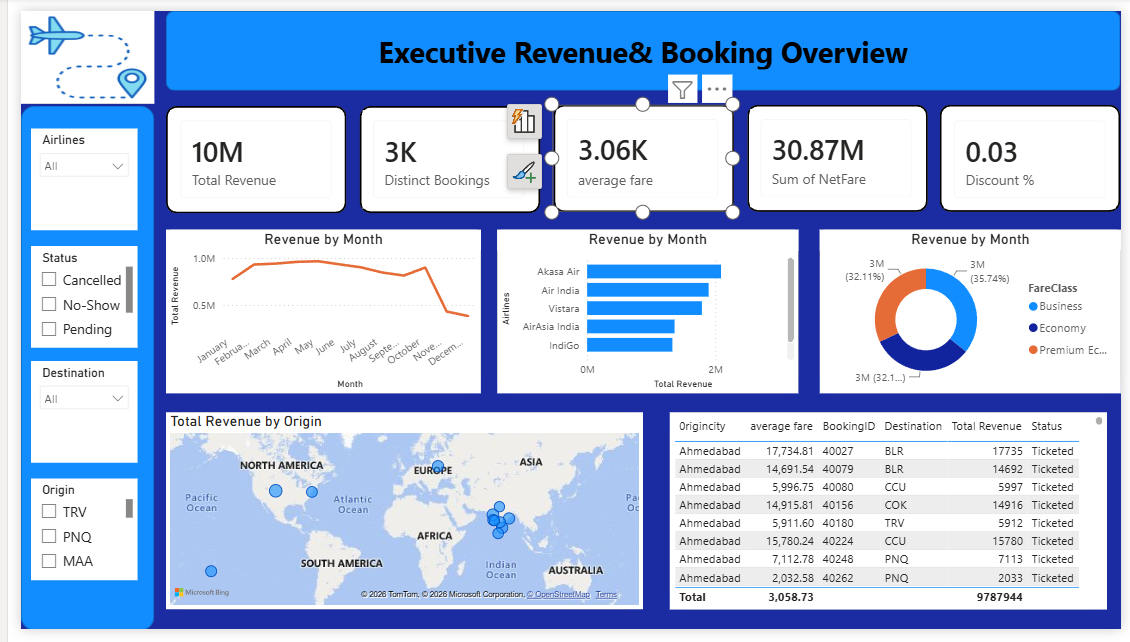

The page's visual inventory and layout, read from the dashboard file:
{"tool":"powerbi","page":{"name":"Page 2","canvas":[1280,720],"ordinal":0},"visuals":[{"type":"shape","box":[169.1,110.3,210,125],"z":0},{"type":"shape","box":[169.1,0,1110.6,92.5],"z":1000},{"type":"shape","box":[394.2,110.3,210,124.6],"z":2000},{"type":"shape","box":[619.4,109,210,125],"z":3000},{"type":"shape","box":[844.5,109,210,124.6],"z":4000},{"type":"shape","box":[1069.7,108.6,210,124.6],"z":5000},{"type":"shape","box":[169.1,254.5,366.6,190.4],"z":6000},{"type":"shape","box":[169.1,466.3,555.3,229.6],"z":7000},{"type":"shape","box":[754.6,466.3,509,229.6],"z":8000},{"type":"shape","box":[553.5,254.5,350.6,190.4],"z":9000},{"type":"shape","box":[929,254.5,350.6,190.4],"z":10000},{"type":"cardVisual","fields":{"Data":["Bookin_all.Total Revenue"]},"box":[169.1,110.3,210,124.6],"z":11000},{"type":"cardVisual","fields":{"Data":["Airports_Master.Distinct Bookings"]},"box":[393.3,110.3,210,124.6],"z":12000},{"type":"cardVisual","fields":{"Data":["Airports_Master.average fare"]},"box":[618.7,109.5,210.5,125.2],"z":13000},{"type":"cardVisual","fields":{"Data":["Sum(Bookin_all.NetFare)"]},"box":[843.6,108.6,210,124.6],"z":14000},{"type":"cardVisual","fields":{"Data":["Airports_Master.Discount %"]},"box":[1069.7,110.3,210,124.6],"z":15000},{"type":"lineChart","title":"Revenue by Month","fields":{"Category":["Bookin_all.BookingDate.Variation.Date Hierarchy.Month"],"Y":["Bookin_all.Total Revenue"]},"box":[169.1,254.5,366.6,190.4],"z":16000},{"type":"clusteredBarChart","title":"Revenue by Month","fields":{"Category":["Bookin_all.Airlines"],"Y":["Bookin_all.Total Revenue"]},"box":[553.5,254.5,350.6,190.4],"z":17000},{"type":"donutChart","title":"Revenue by Month","fields":{"Category":["Bookin_all.FareClass"],"Y":["Bookin_all.Total Revenue"]},"box":[929,254.5,350.6,190.4],"z":18000},{"type":"tableEx","fields":{"Values":["Bookin_all.0rigincity","Airports_Master.average fare","Bookin_all.BookingID","Bookin_all.Destination","Bookin_all.Total Revenue","Bookin_all.Status"]},"box":[754.6,466.3,509,229.6],"z":19000},{"type":"map","fields":{"Category":["Bookin_all.Origin"],"Size":["Bookin_all.Total Revenue"]},"box":[169.2,466.5,554.7,229],"z":20000},{"type":"shape","box":[0,0,155,108.1],"z":22000},{"type":"image","box":[0,0,155,108.1],"z":23000},{"type":"shape","box":[0,110.9,155,610.1],"z":23500},{"type":"slicer","fields":{"Values":["Bookin_all.Airlines"]},"box":[11.4,136.5,123.7,118],"z":24000},{"type":"slicer","fields":{"Values":["Bookin_all.Status"]},"box":[11.4,273.1,123.7,118],"z":25000},{"type":"slicer","fields":{"Values":["Bookin_all.Destination"]},"box":[11.4,406.8,123.7,118],"z":26000},{"type":"slicer","fields":{"Values":["Bookin_all.Origin"]},"box":[11.4,543.3,123.7,118],"z":27000}]}

Visuals, with their boxes in screenshot pixels (x1, y1, x2, y2), scaled from the page's 1280x720 canvas onto the 1130x642 screenshot:
shape: 149,98,335,210
shape: 149,0,1129,82
shape: 348,98,533,209
shape: 547,97,732,209
shape: 746,97,931,208
shape: 944,97,1129,208
shape: 149,227,473,397
shape: 149,416,640,621
shape: 666,416,1116,621
shape: 489,227,798,397
shape: 820,227,1129,397
cardVisual - Bookin_all.Total Revenue: 149,98,335,209
cardVisual - Airports_Master.Distinct Bookings: 347,98,533,209
cardVisual - Airports_Master.average fare: 546,98,732,209
cardVisual - Sum(Bookin_all.NetFare): 745,97,930,208
cardVisual - Airports_Master.Discount %: 944,98,1129,209
"Revenue by Month" lineChart: 149,227,473,397
"Revenue by Month" clusteredBarChart: 489,227,798,397
"Revenue by Month" donutChart: 820,227,1129,397
tableEx - Bookin_all.0rigincity x Airports_Master.average fare: 666,416,1116,621
map - Bookin_all.Origin x Bookin_all.Total Revenue: 149,416,639,620
shape: 0,0,137,96
image: 0,0,137,96
shape: 0,99,137,641
slicer - Bookin_all.Airlines: 10,122,119,227
slicer - Bookin_all.Status: 10,244,119,349
slicer - Bookin_all.Destination: 10,363,119,468
slicer - Bookin_all.Origin: 10,484,119,590
